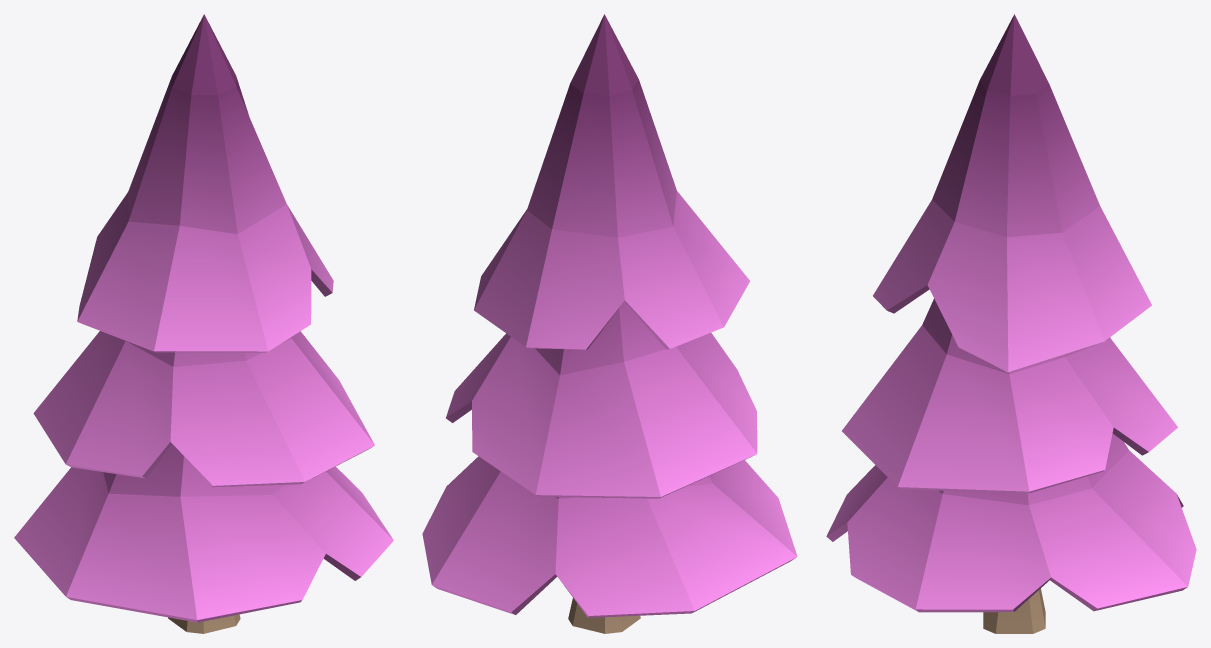
The model's file is SpringPine2.fbx.
3 views of the same model, side by side, from view 1: azimuth 30°, elevation 25°; view 2: azimuth 150°, elevation 25°; view 3: azimuth 270°, elevation 25° (orthographic).
Visible parts, largest first — view 1: SpringPine2; view 2: SpringPine2; view 3: SpringPine2.
Part boxes in pixels (x1,y1,x2,y2): SpringPine2: (14, 14, 393, 633); SpringPine2: (422, 14, 797, 633); SpringPine2: (826, 14, 1196, 633).
Size of the model in its own units: 432 by 773 by 428.
